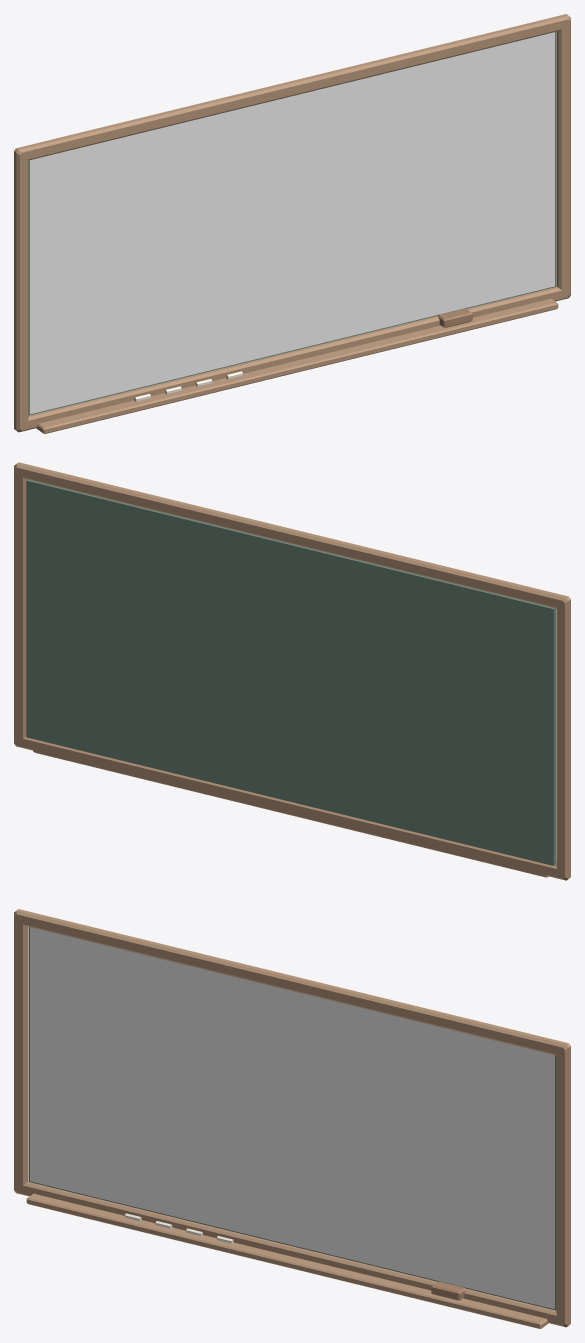
The model's file is lab_blackboard.glb.
3 renders of one model, top to bottom at view 1: azimuth 30°, elevation 25°; view 2: azimuth 150°, elevation 25°; view 3: azimuth 330°, elevation 25°, orthographic.
Parts seen in each view (by area): view 1: Board, lab_blackboard; view 2: lab_blackboard; view 3: Board, lab_blackboard.
Boxes of the visible parts, x1,y1,x2,y2 form: Board: (30,32,554,414); lab_blackboard: (14,14,570,433); lab_blackboard: (14,462,570,880); Board: (30,927,554,1309); lab_blackboard: (14,909,570,1328).
Bounding box in the file's own units: 4.52 × 2.21 × 0.16.
